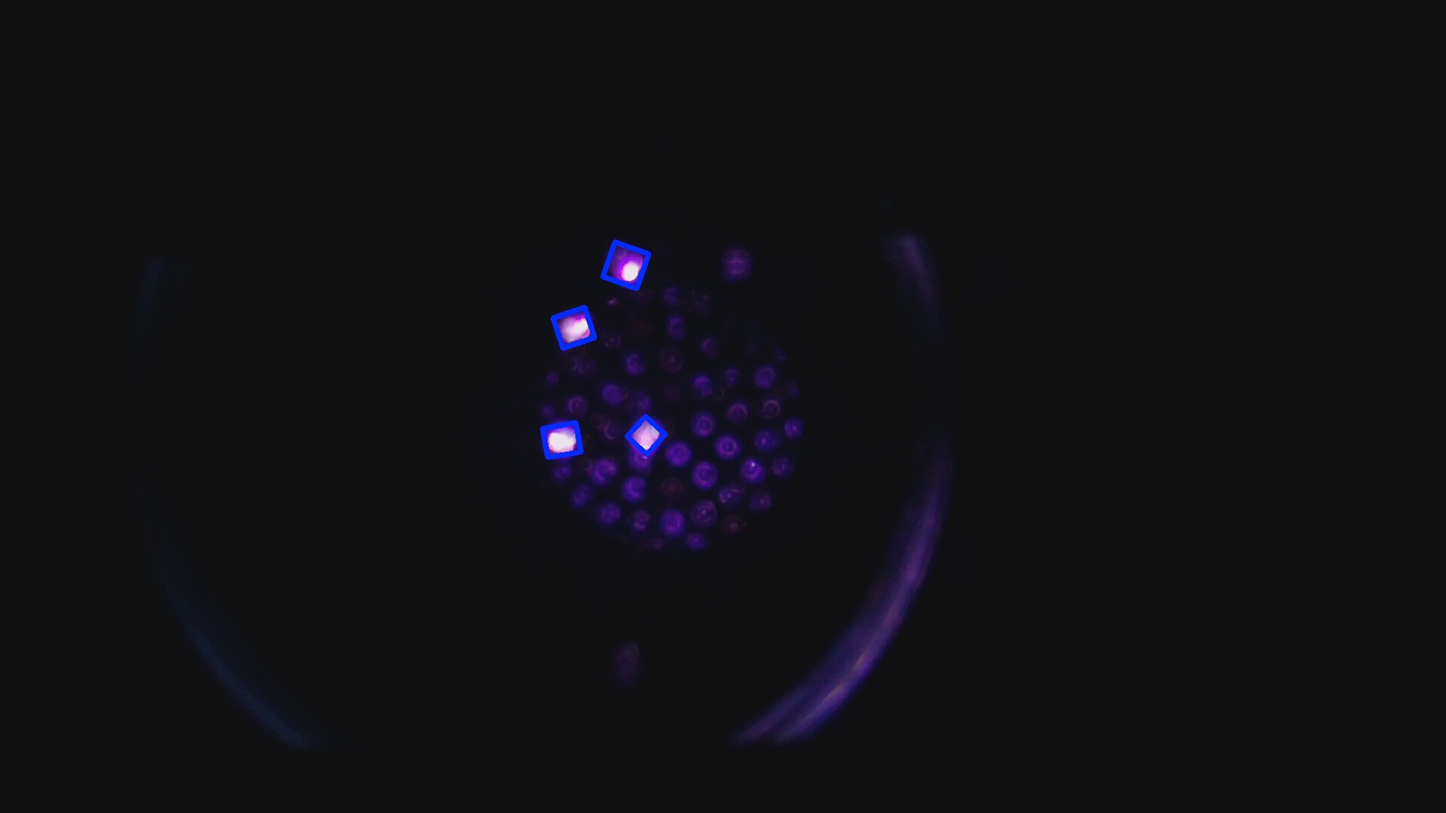plastic: (606, 245, 645, 285), (556, 310, 593, 344), (631, 420, 662, 450), (546, 426, 578, 454)
